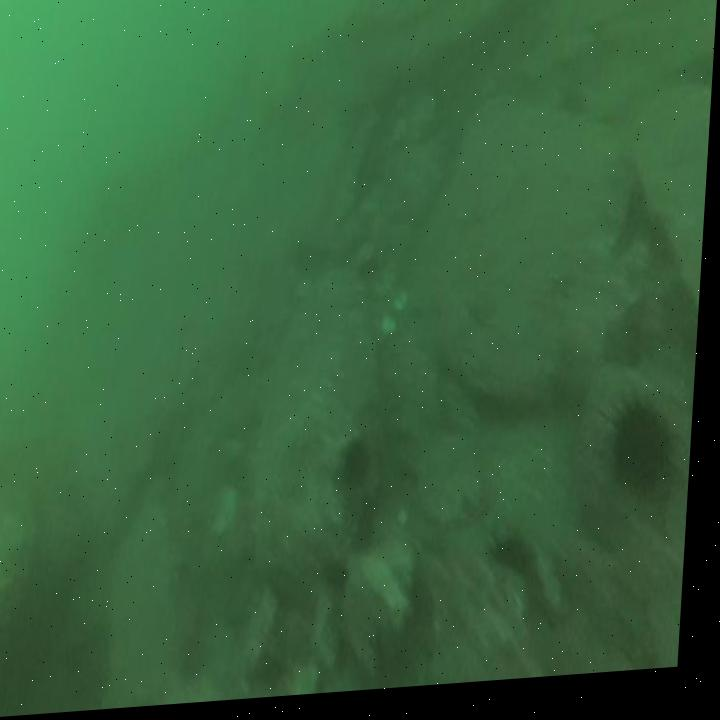echinus: (619, 411, 675, 501), (494, 536, 542, 587), (349, 444, 374, 485)
